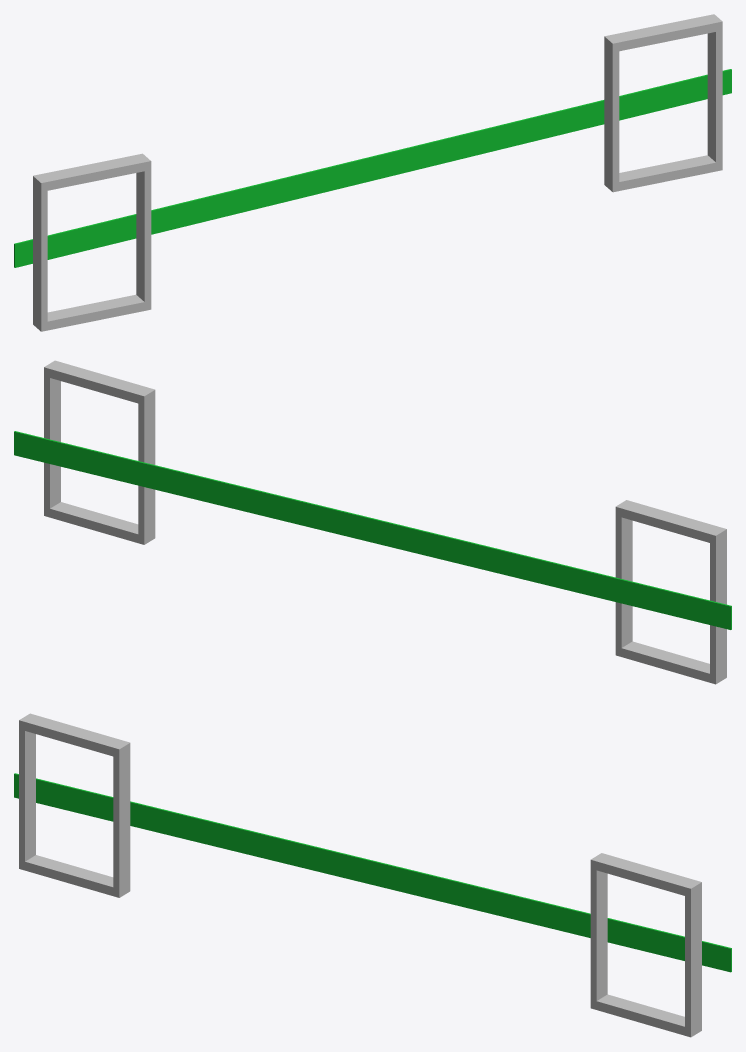
The model's file is frame.obj.
3 renders of one model, top to bottom at view 1: azimuth 30°, elevation 25°; view 2: azimuth 150°, elevation 25°; view 3: azimuth 330°, elevation 25°, orthographic.
Visible parts, largest first — view 1: Cube, Cube.001, Cube.002; view 2: Cube, Cube.001, Cube.002; view 3: Cube, Cube.001, Cube.002.
Boxes of the visible parts, box(x1,y1,x2,y2) form: Cube: box(14, 69, 731, 267); Cube.001: box(604, 14, 722, 192); Cube.002: box(33, 153, 151, 331); Cube: box(14, 431, 731, 629); Cube.001: box(44, 360, 155, 544); Cube.002: box(615, 500, 726, 684); Cube: box(14, 773, 731, 972); Cube.001: box(590, 853, 701, 1037); Cube.002: box(19, 713, 130, 897).
Bounding box in the file's own units: 5.47 × 1.08 × 0.2161.
